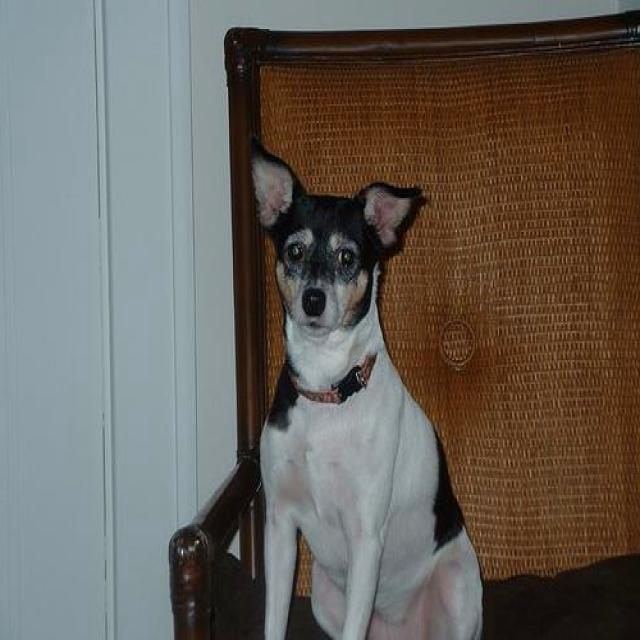toy_terrier: (250, 142, 482, 638)
